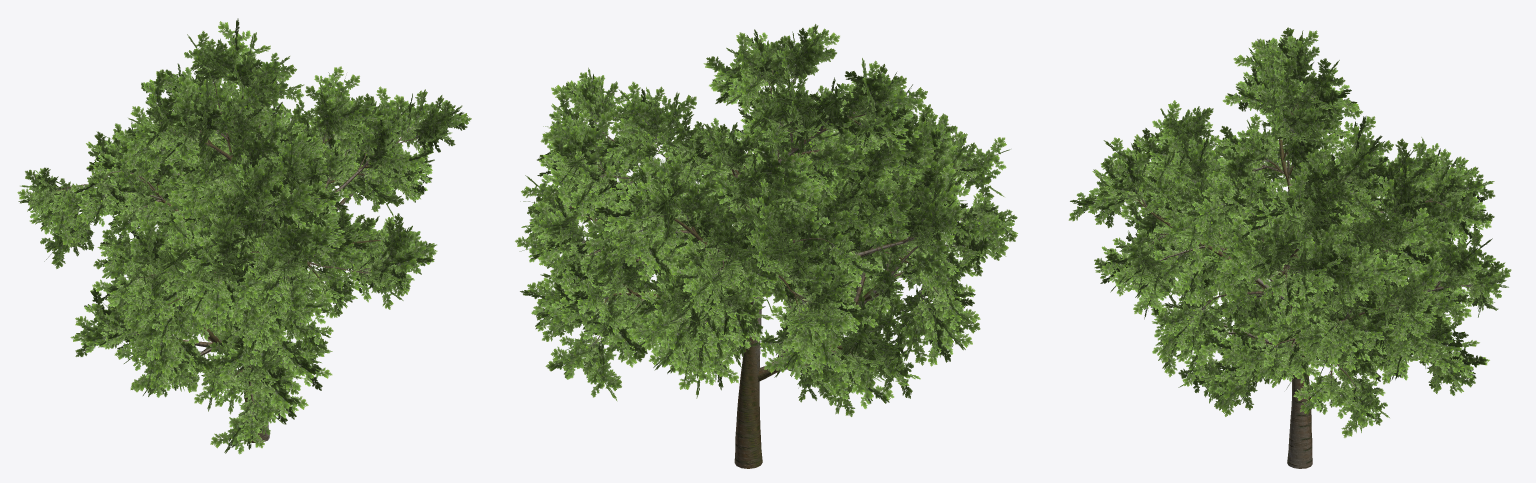
The model's file is baum_laub_1_lod0.glb.
3 views of the same model, side by side, from view 1: azimuth 30°, elevation 25°; view 2: azimuth 150°, elevation 25°; view 3: azimuth 270°, elevation 25° (orthographic). The views are drawn at different scales.
Parts seen in each view (by area): view 1: Krone, Stamm; view 2: Krone, Stamm; view 3: Krone, Stamm.
Part boxes in pixels (left/top/right/bottom): Krone: left=17, top=18, right=471, bottom=454; Stamm: left=50, top=80, right=417, bottom=442; Krone: left=515, top=24, right=1017, bottom=416; Stamm: left=567, top=69, right=978, bottom=468; Krone: left=1068, top=27, right=1511, bottom=437; Stamm: left=1135, top=82, right=1470, bottom=468.
Size of the model in its own units: 13.1 by 13 by 13.19.
Materials: 2 (2 with a texture image).
